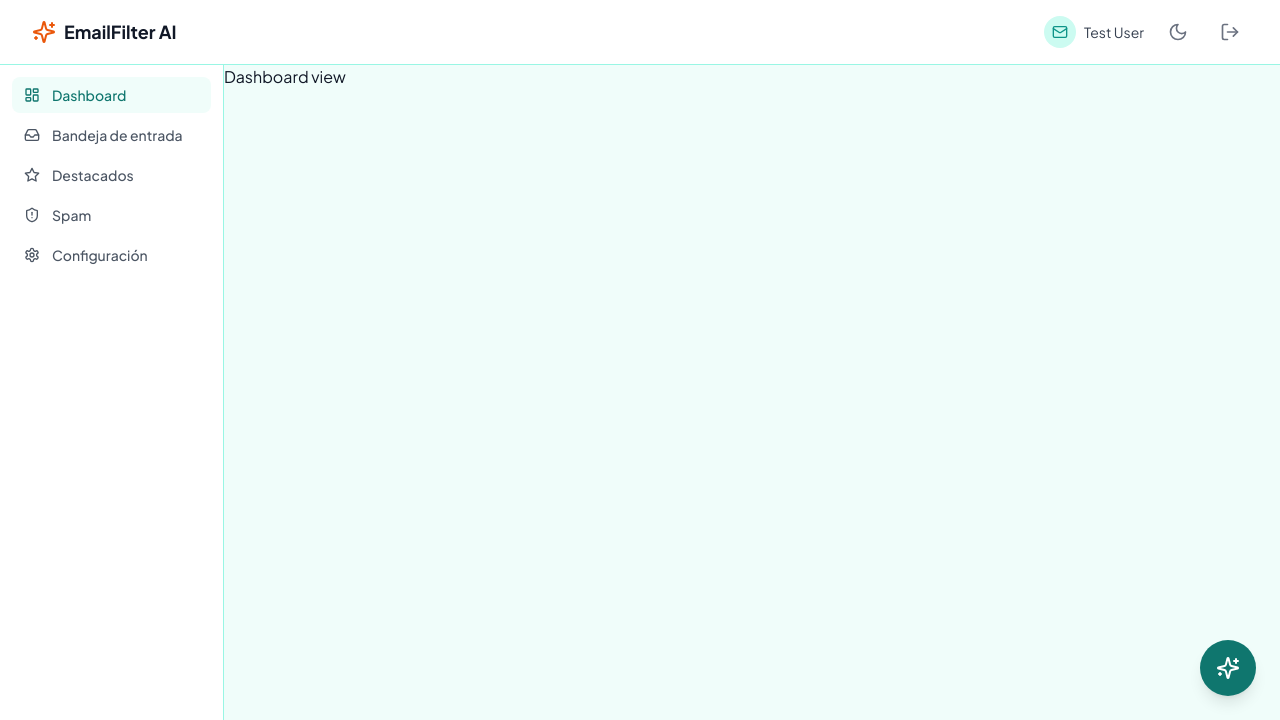
Test: Layout sidebar navigation › navigates to starred when clicking the nav item
Click the link "Destacados": (79, 175) [24,166,134,184]
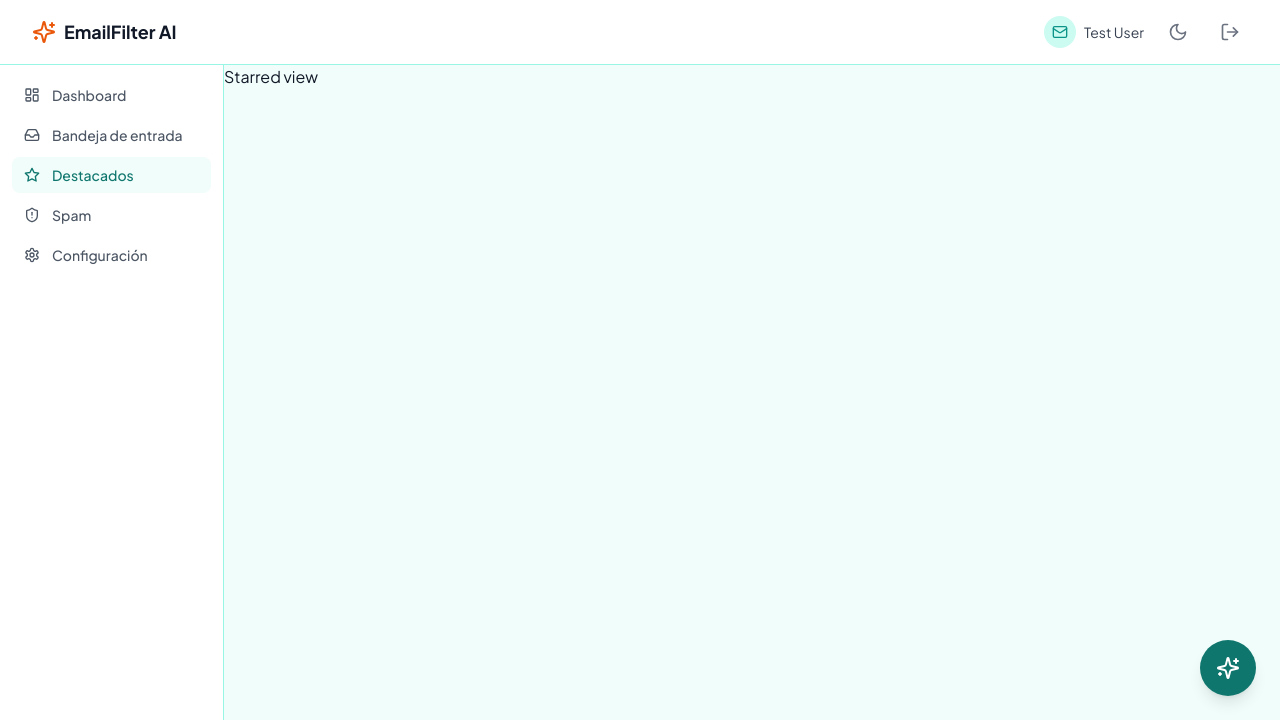
expect the text "Starred view" is shown: met, box [224,66,318,87]
